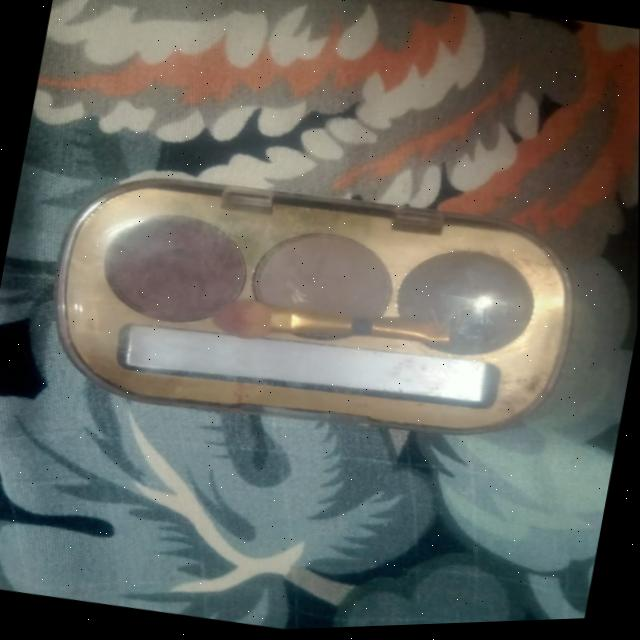eye shade: (96, 202, 259, 358), (236, 217, 410, 361), (391, 232, 549, 381)
